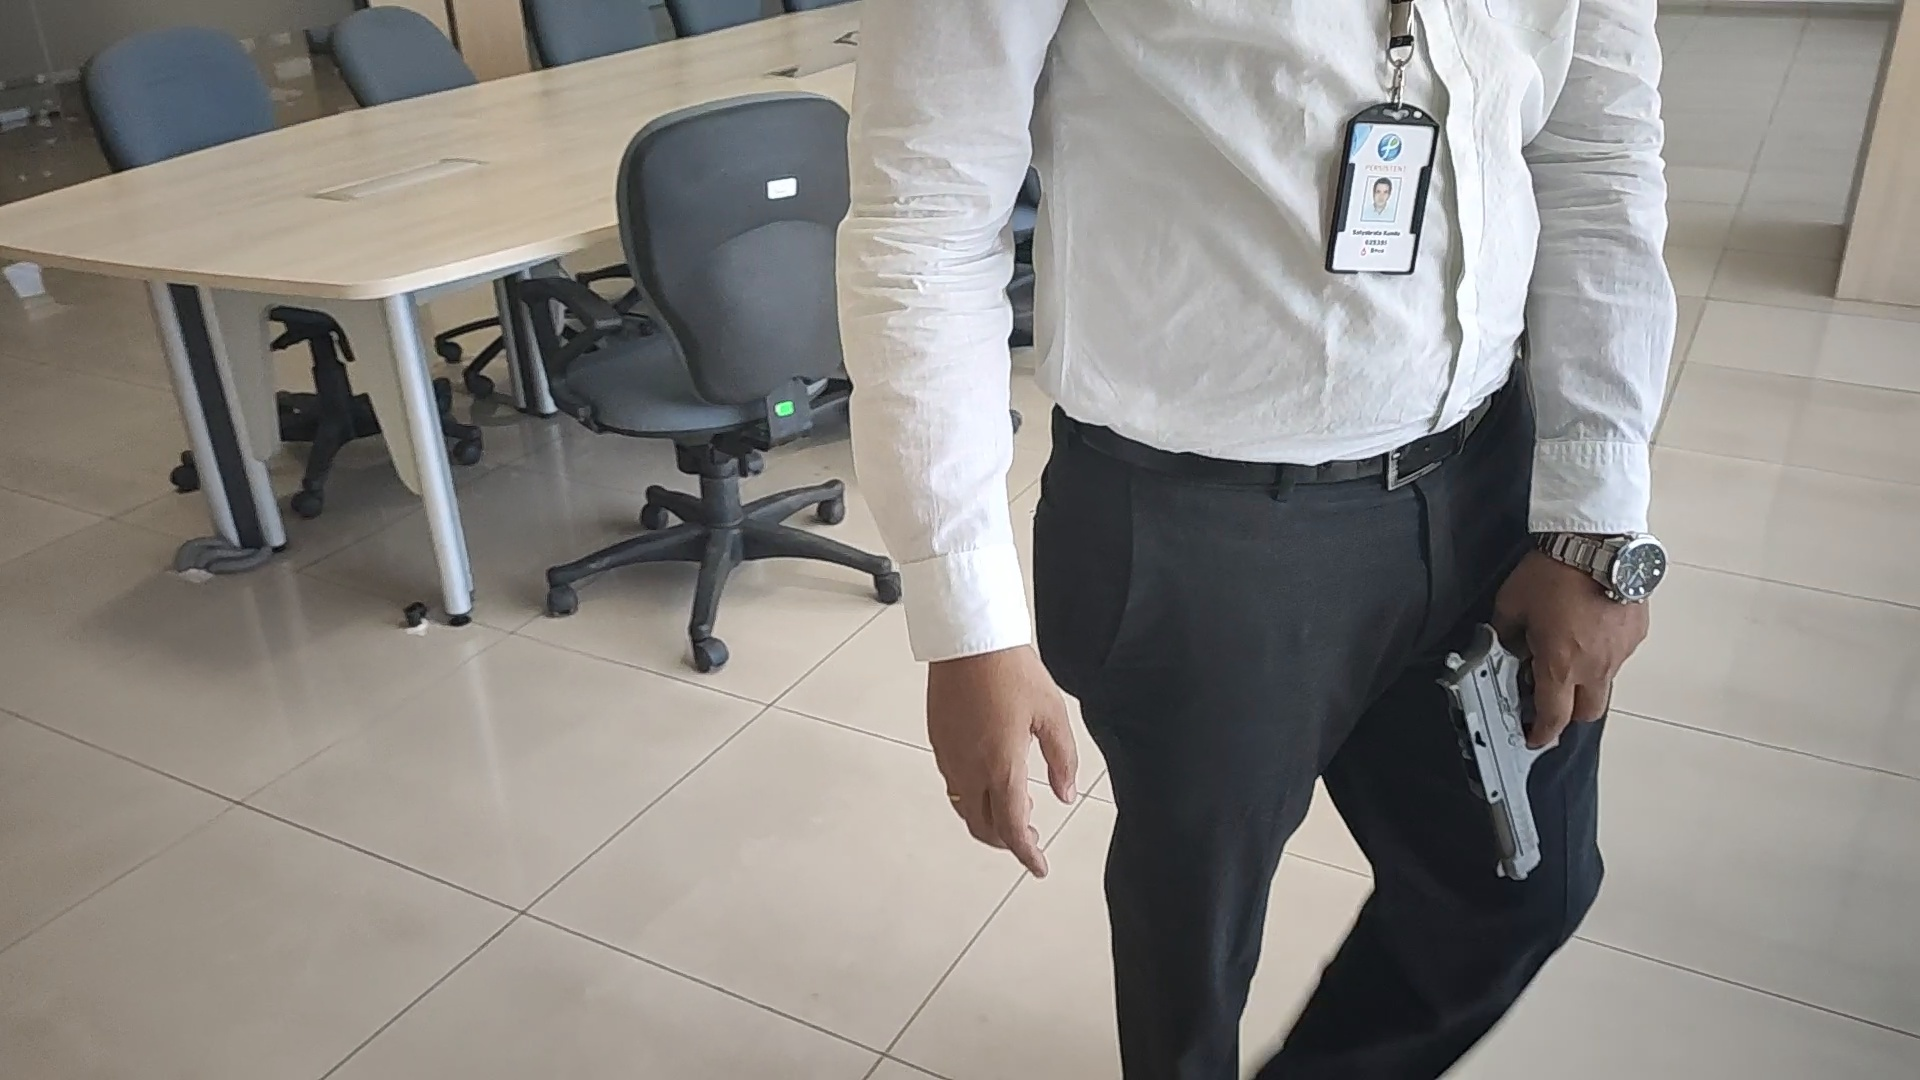gun: (1437, 624, 1557, 880)
